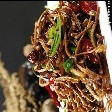chashugu: (25, 0, 111, 112)
